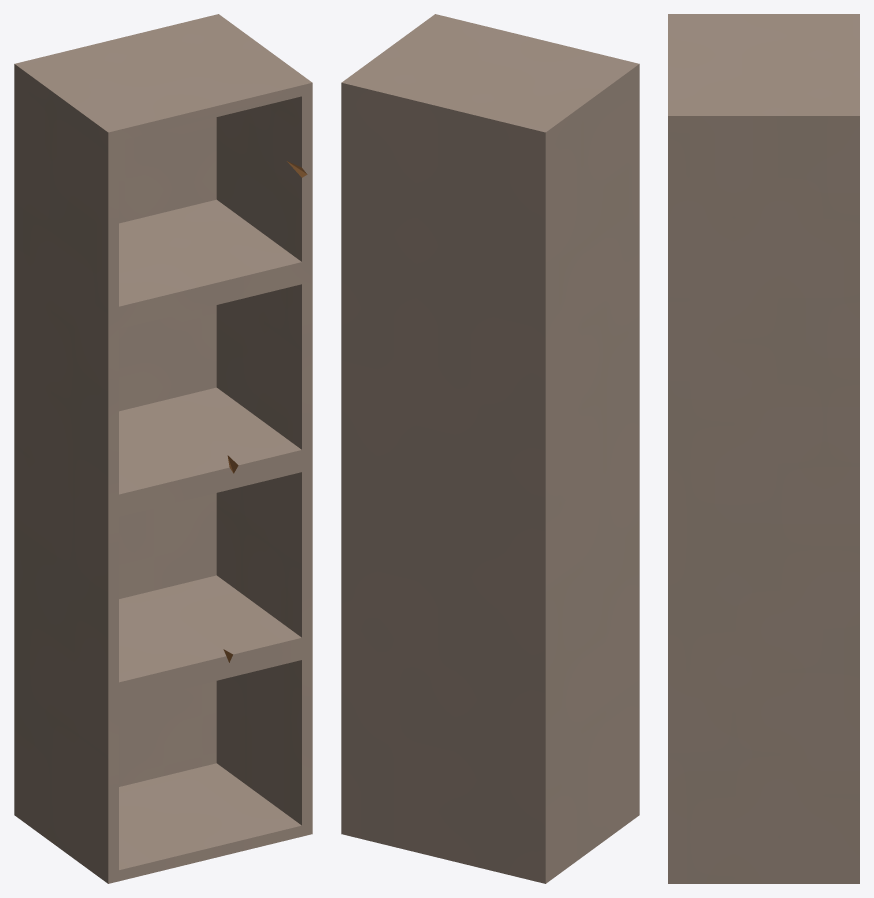
The model's file is Shelf_01_04_Damaged.fbx.
3 renders of one model, left to right at view 1: azimuth 30°, elevation 25°; view 2: azimuth 150°, elevation 25°; view 3: azimuth 270°, elevation 25°, orthographic. The views are drawn at different scales.
Visible parts, largest first — view 1: Shelf_01_04_Damaged; view 2: Shelf_01_04_Damaged; view 3: Shelf_01_04_Damaged.
Part boxes in pixels (x1,y1,x2,y2): Shelf_01_04_Damaged: (14, 14, 312, 883); Shelf_01_04_Damaged: (341, 14, 639, 883); Shelf_01_04_Damaged: (668, 14, 859, 883).
Size of the model in its own units: 0.4966 by 1.75 by 0.3952.
